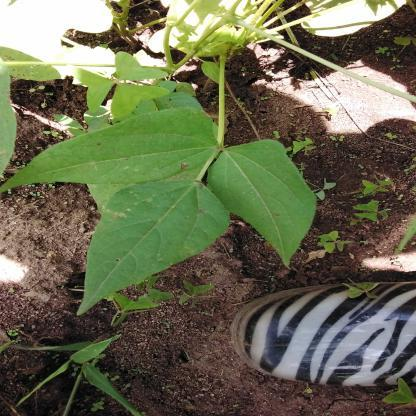Beans_Angular_LeafSpot: (97, 180, 223, 278), (57, 108, 209, 180), (244, 190, 318, 233)
